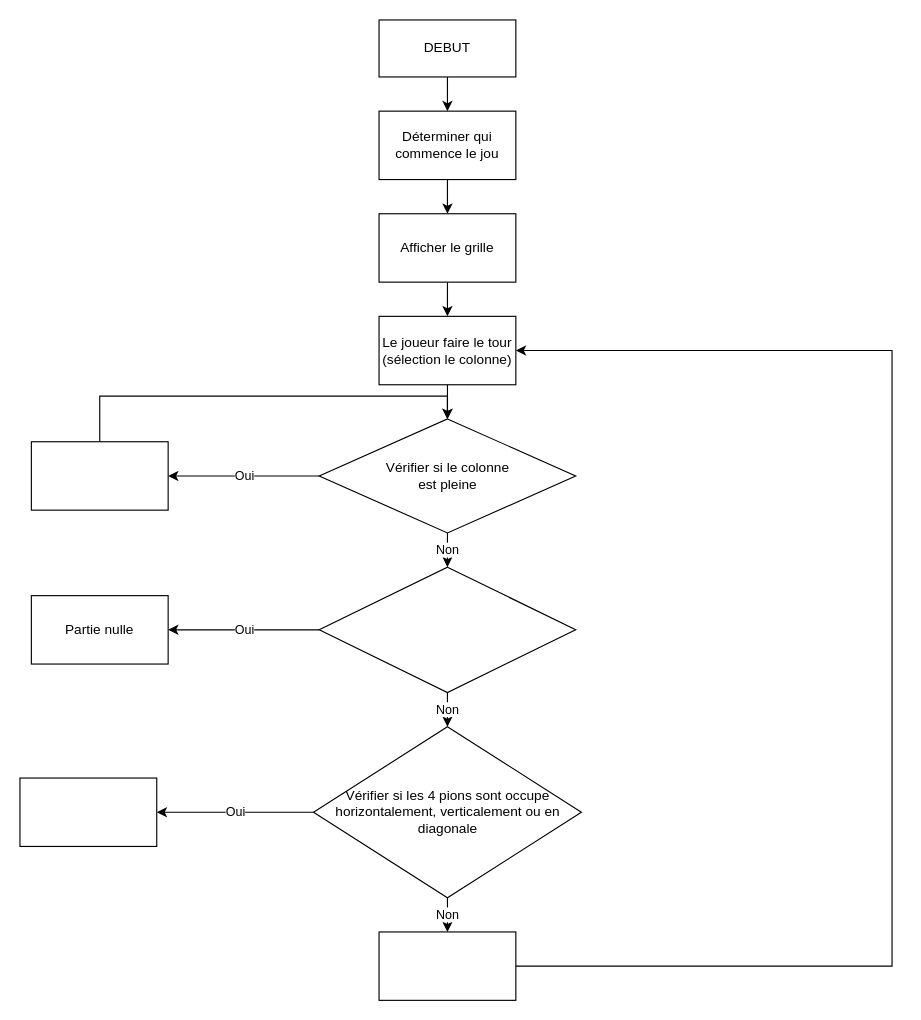
Image size: 921x1020. Some labels were removed from this diagram. The shapes that lost their labels are listed below. From the top down, each one's centre as x and y in pixels, then its label:
At point 99,475: "Cette colonne jéjà pleine".
At point 447,629: "Vérifier si le grille est pleine".
At point 88,811: "Joueur courant gagné".
At point 447,965: "Changer le joueur".
